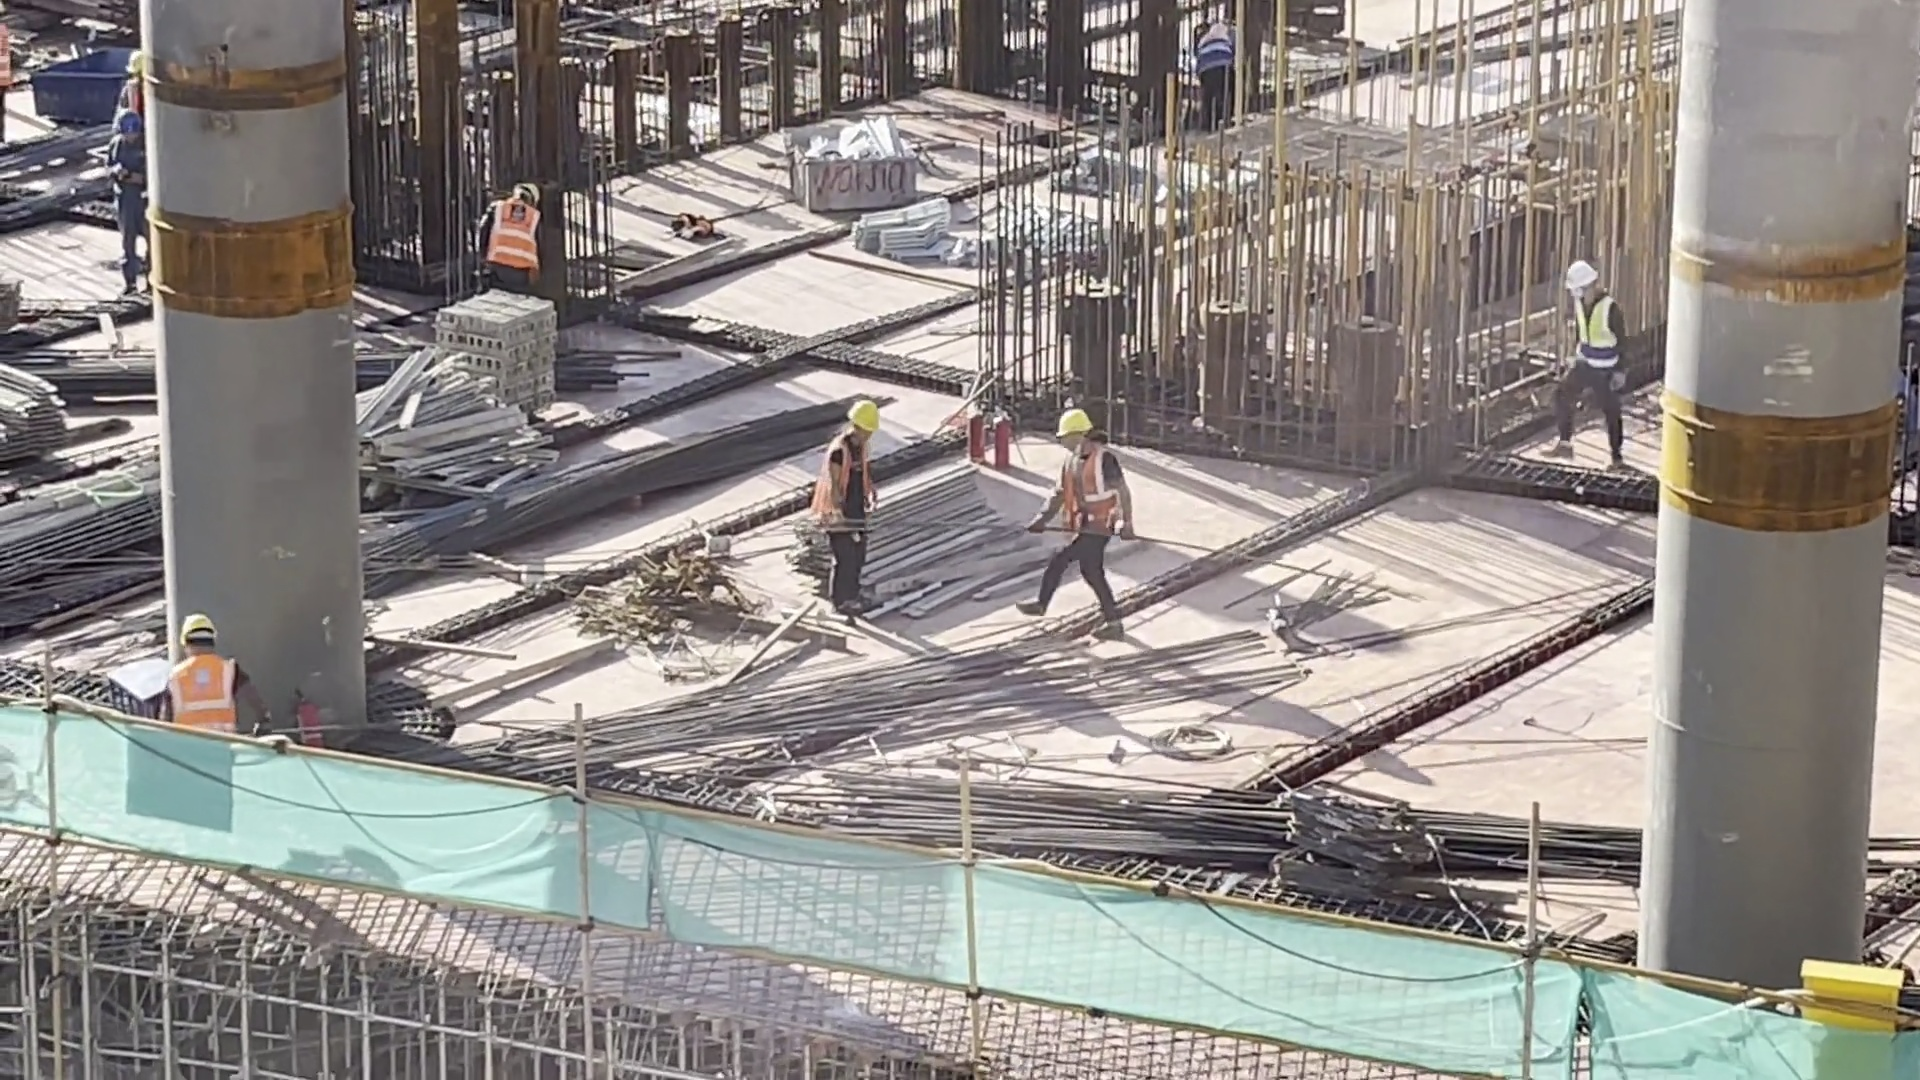ebox: (1812, 942, 1905, 1080)
helmet: (1052, 398, 1104, 445), (1557, 248, 1592, 300), (175, 613, 222, 646), (838, 392, 881, 426), (115, 100, 144, 138)
hopper: (769, 105, 940, 222), (21, 42, 154, 145)
person: (1543, 237, 1645, 490), (1045, 387, 1125, 631), (147, 600, 252, 771), (819, 379, 881, 632), (471, 158, 554, 290), (95, 105, 152, 283), (1188, 12, 1245, 124)
vest: (1059, 445, 1127, 534), (174, 655, 238, 737), (824, 430, 870, 538), (485, 186, 544, 265), (1561, 309, 1622, 378), (109, 141, 155, 205)
wood: (833, 446, 1032, 622), (352, 369, 562, 515), (1, 449, 186, 589)
